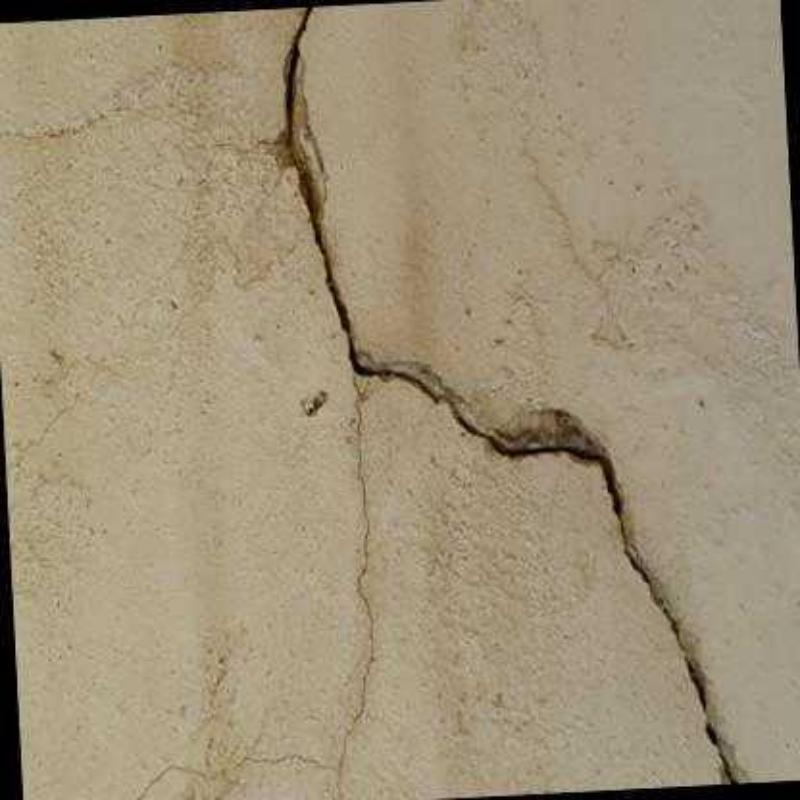pothole: (283, 7, 741, 787), (135, 375, 375, 798)
